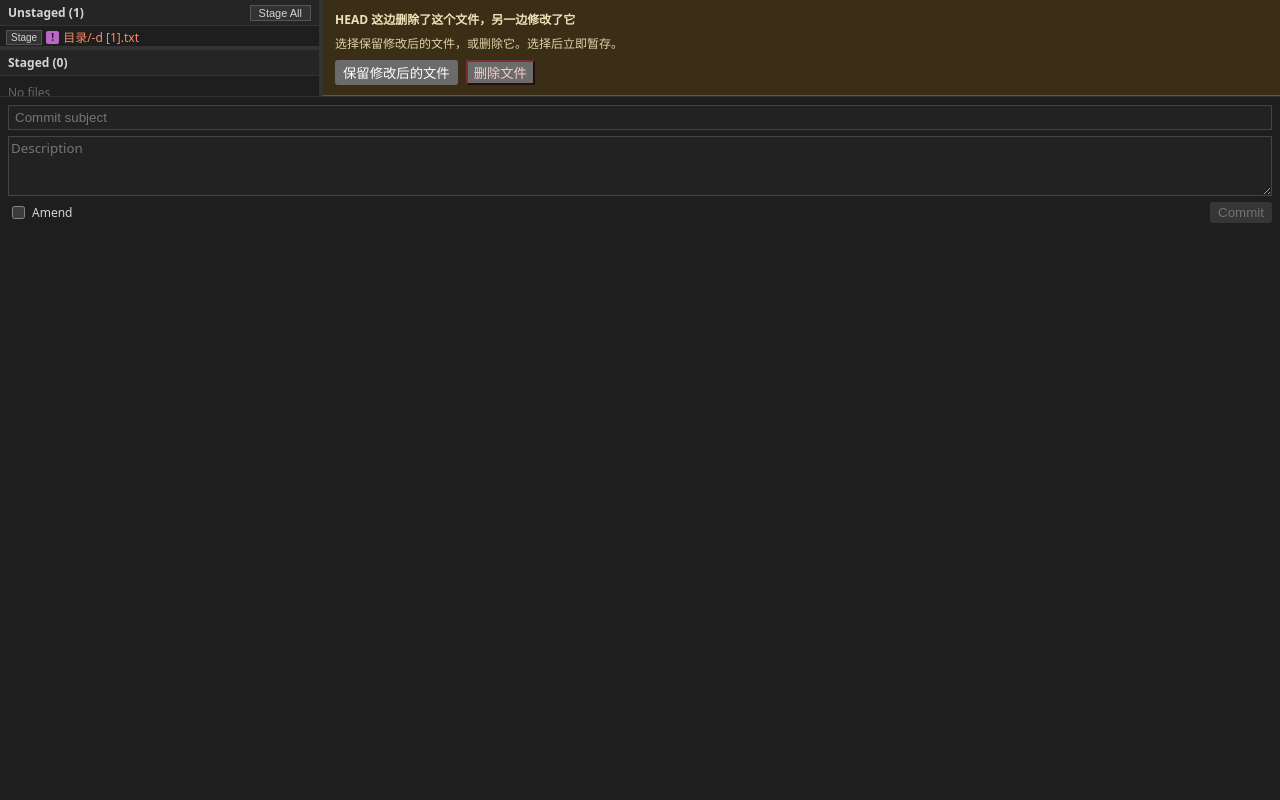
Test: LocalChangesView 的一边删一边改 › 点「删除文件」先弹危险确认框，标题和内容都带文件名；取消就不执行
Click the button "删除文件" at (500, 72), box x1=466 y1=60 x2=535 y2=85
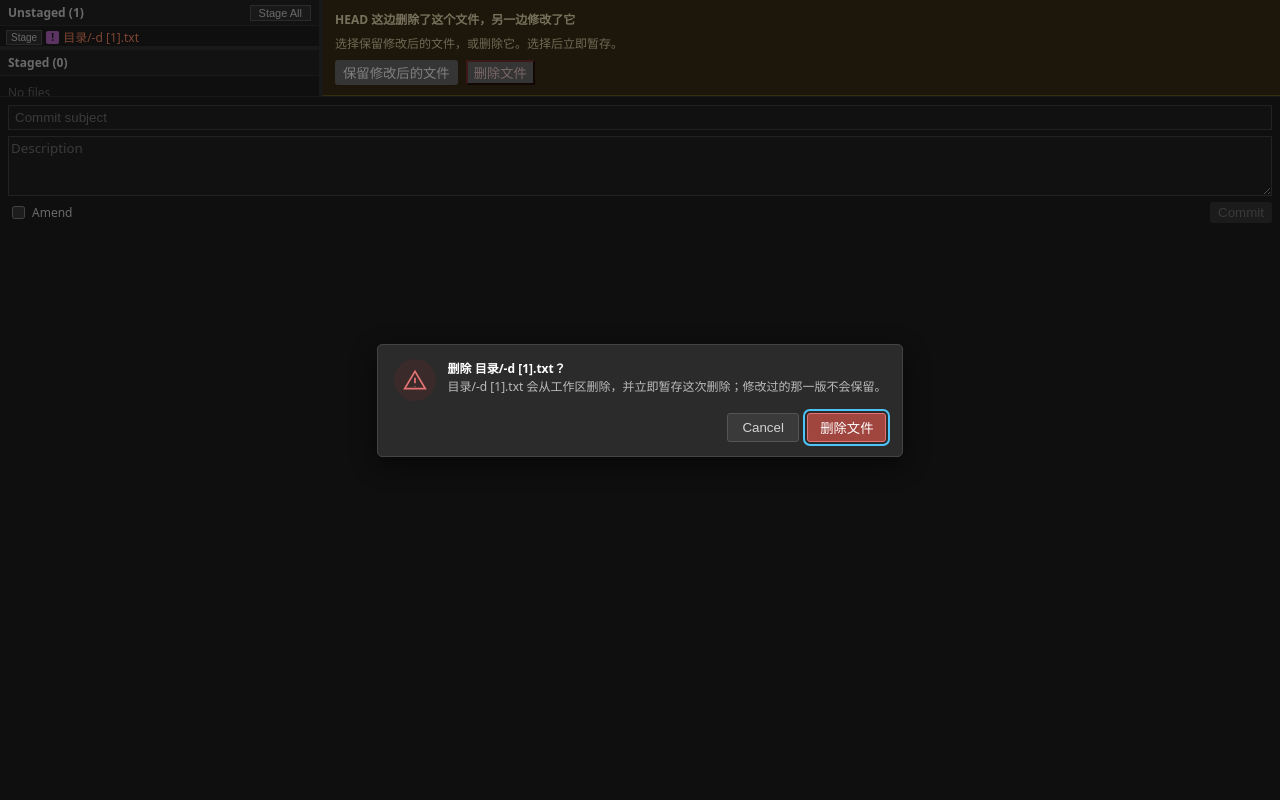
Click the button "Cancel" at (763, 427), box x1=727 y1=412 x2=799 y2=442
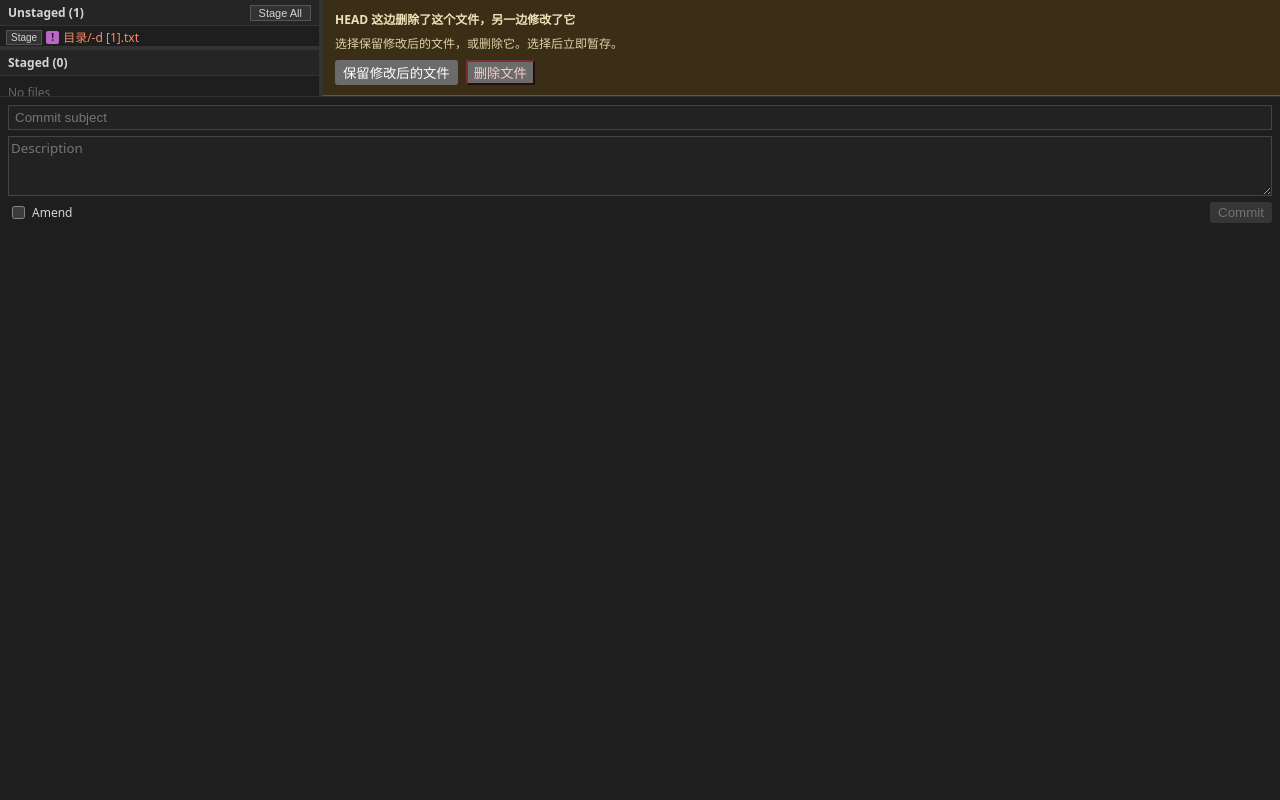
Expected: the element with class "dialog-actions" is gone
